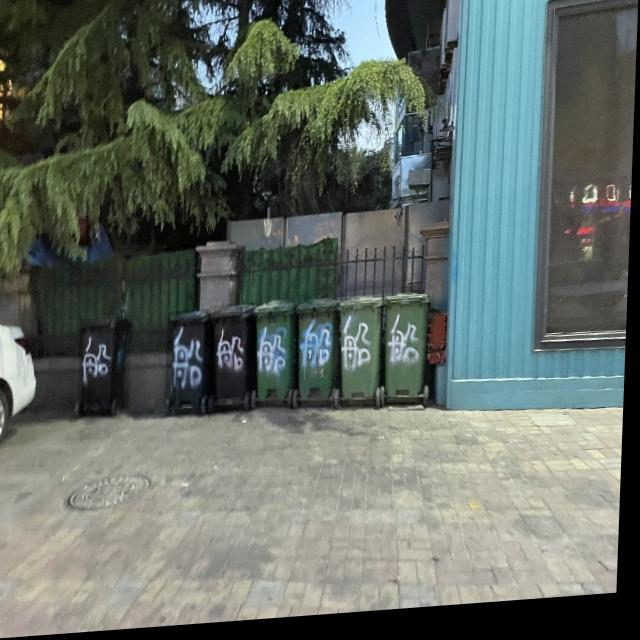garbage_bin: (384, 297, 434, 407), (80, 318, 134, 415), (209, 306, 262, 403), (337, 300, 385, 405), (254, 302, 300, 407), (297, 303, 341, 408), (168, 312, 214, 412)
